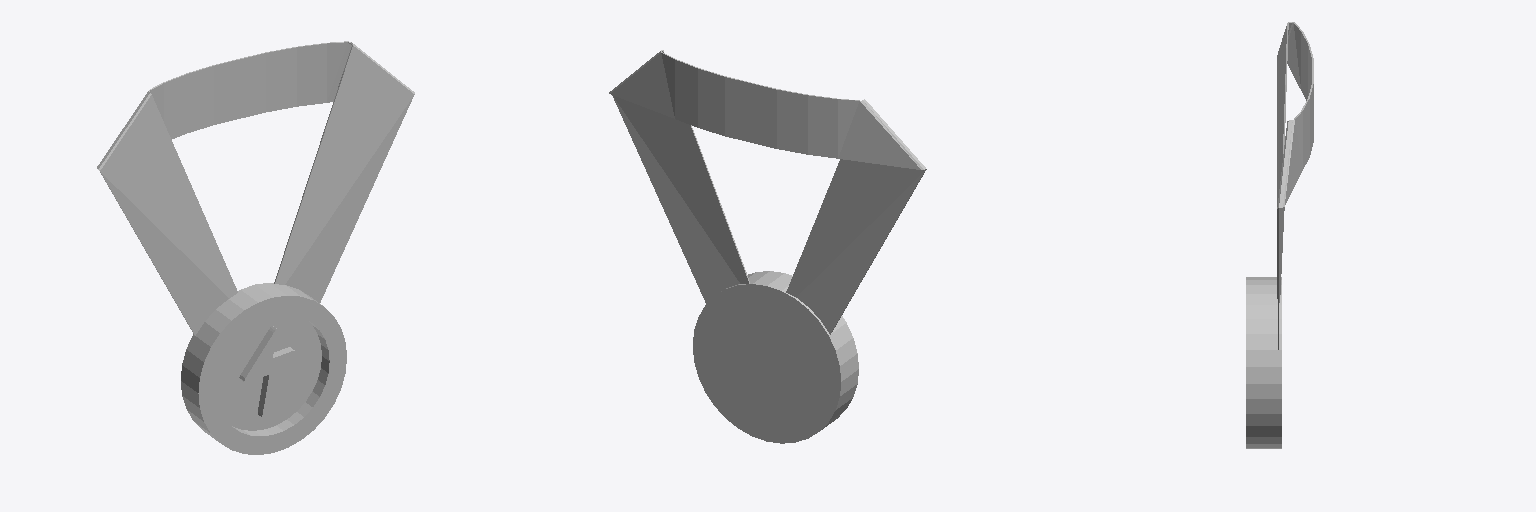
The model's file is EnergyMedal.obj.
3 views of the same model, side by side, from view 1: azimuth 30°, elevation 25°; view 2: azimuth 150°, elevation 25°; view 3: azimuth 270°, elevation 25° (orthographic).
Parts seen in each view (by area): view 1: MedalFabric_Plane.006, MedalEnergy_Circle, LightningMedal_Plane.007; view 2: MedalFabric_Plane.006, MedalEnergy_Circle; view 3: MedalEnergy_Circle, MedalFabric_Plane.006.
Part boxes in pixels (x1,y1,x2,y2): MedalFabric_Plane.006: (97, 41, 414, 335); MedalEnergy_Circle: (181, 283, 346, 454); LightningMedal_Plane.007: (239, 326, 295, 417); MedalFabric_Plane.006: (609, 50, 926, 334); MedalEnergy_Circle: (693, 271, 858, 443); MedalEnergy_Circle: (1246, 277, 1281, 448); MedalFabric_Plane.006: (1277, 22, 1313, 349).
Size of the model in its own units: 4.25 by 4.75 by 0.7827.